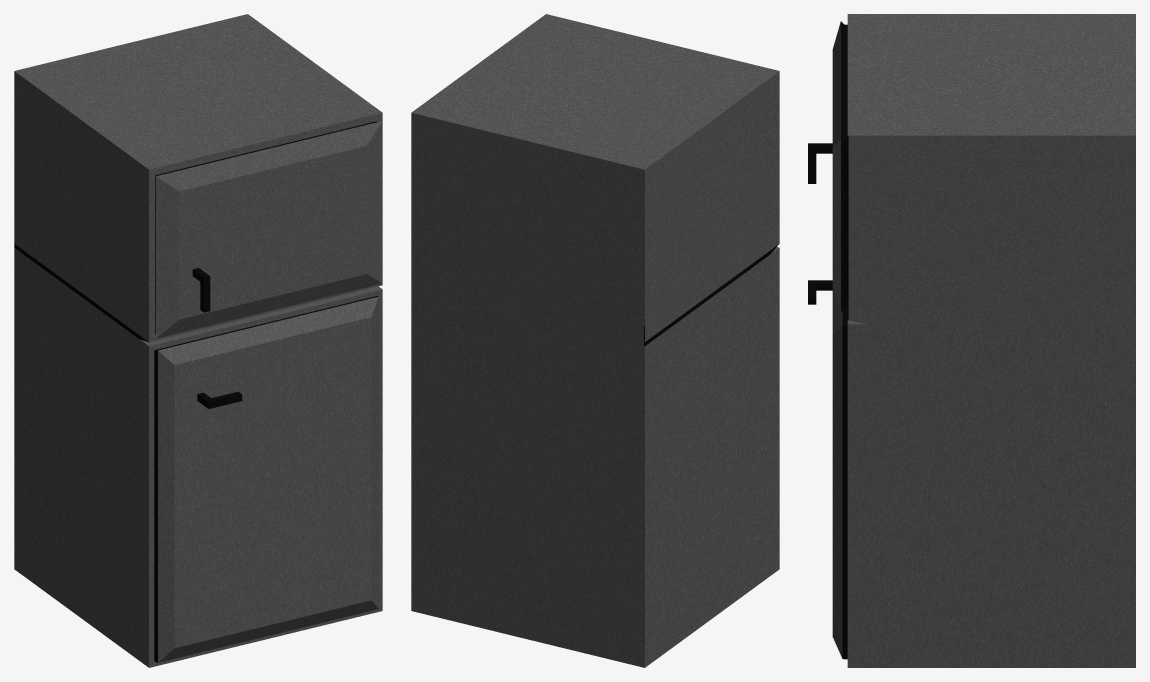
File: GameJamFridge.fbx
The picture shows the model from 3 angles, left to right: view 1: azimuth 30°, elevation 25°; view 2: azimuth 150°, elevation 25°; view 3: azimuth 270°, elevation 25°; orthographic projection. The views are drawn at different scales.
Parts seen in each view (by area): view 1: Cube, Cube.001; view 2: Cube, Cube.001; view 3: Cube, Cube.001, Cube.003.
Part boxes in pixels (x1,y1,x2,y2): Cube: [14, 248, 382, 667]; Cube.001: [14, 14, 382, 342]; Cube: [411, 247, 779, 667]; Cube.001: [411, 14, 779, 346]; Cube: [832, 285, 1135, 667]; Cube.001: [832, 14, 1135, 324]; Cube.003: [808, 143, 832, 183].
Bounding box in the file's own units: 200 × 412 × 228.
Materials: 2 (1 with a texture image).
